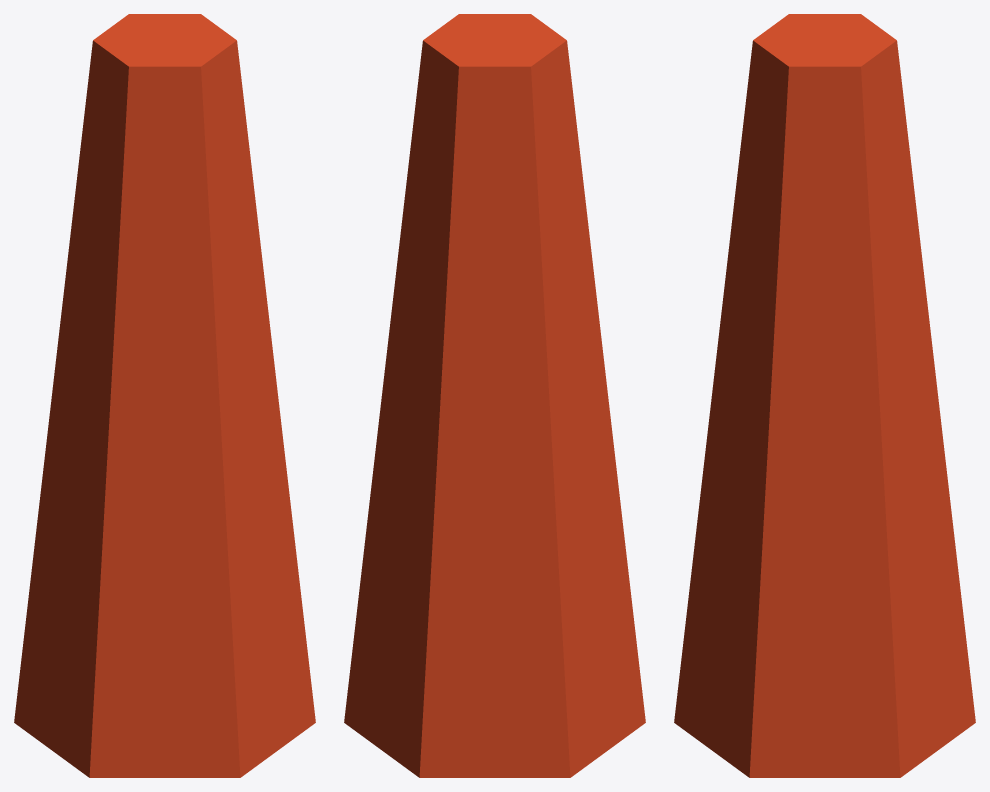
File: dagaltıgen.fbx
3 renders of one model, left to right at view 1: azimuth 30°, elevation 25°; view 2: azimuth 150°, elevation 25°; view 3: azimuth 270°, elevation 25°, orthographic.
Parts seen in each view (by area): view 1: Circle; view 2: Circle; view 3: Circle.
Part boxes in pixels (left/top/right/bottom): Circle: left=14, top=14, right=315, bottom=777; Circle: left=344, top=14, right=645, bottom=777; Circle: left=674, top=14, right=975, bottom=777.
Size of the model in its own units: 173 by 499 by 200.
